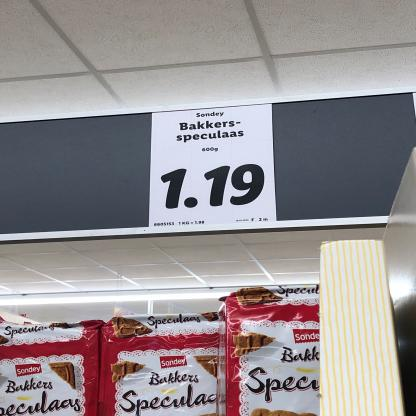prtg: (150, 104, 278, 228)
